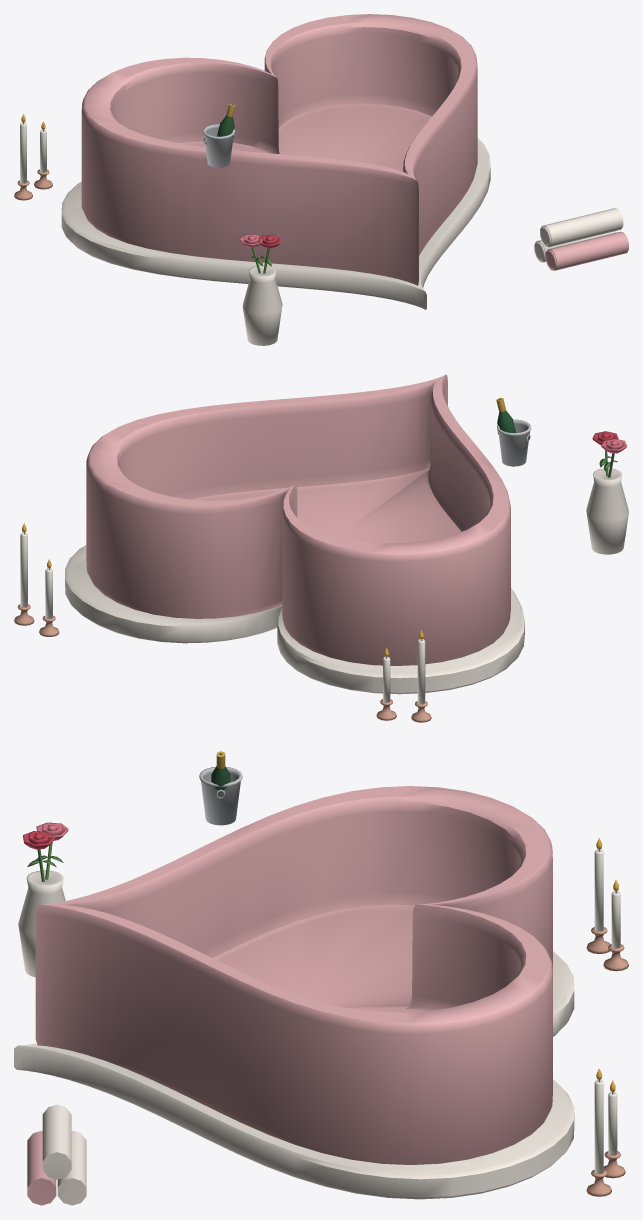
Rendered from heartTub.glb.
The picture shows the model from 3 angles, top to bottom: view 1: azimuth 30°, elevation 25°; view 2: azimuth 150°, elevation 25°; view 3: azimuth 270°, elevation 25°; orthographic projection. The views are drawn at different scales.
Visible parts, largest first — view 1: body; view 2: body; view 3: body.
Boxes of the visible parts, x1=… form: body: x1=14, y1=14, x2=628, y2=345; body: x1=14, y1=374, x2=628, y2=722; body: x1=14, y1=751, x2=628, y2=1205.
Bounding box in the file's own units: 1.87 × 0.7838 × 1.82.
